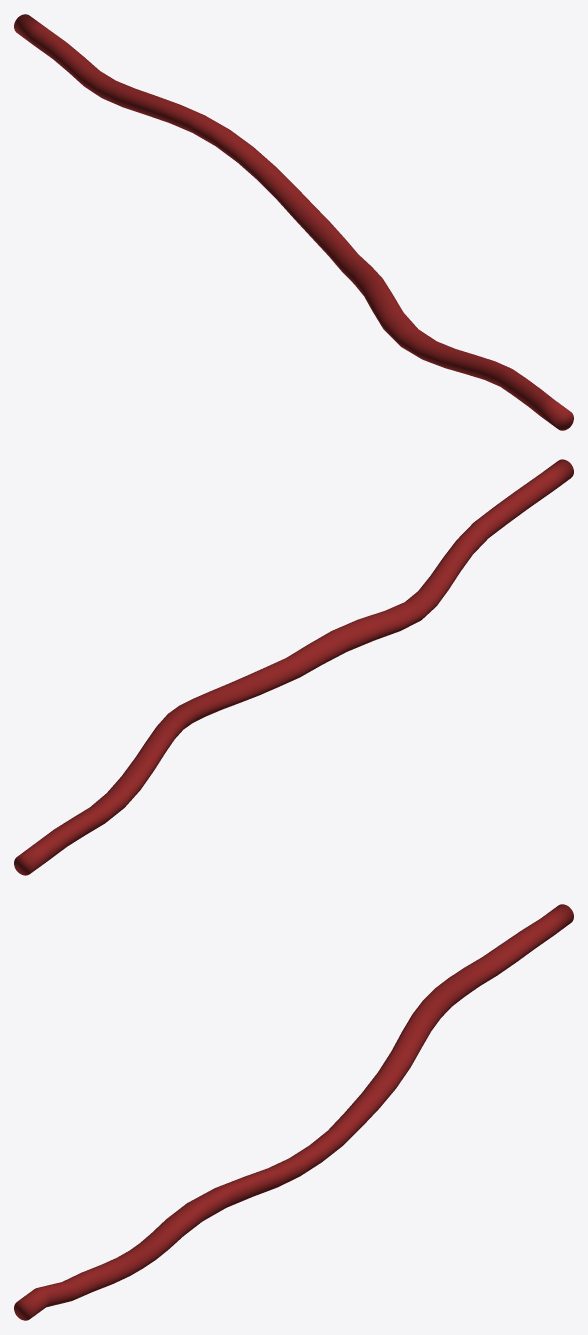
Rendered from Fiber1.fbx.
3 views of the same model, one above another, from view 1: azimuth 30°, elevation 25°; view 2: azimuth 150°, elevation 25°; view 3: azimuth 330°, elevation 25° (orthographic).
Visible parts, largest first — view 1: NerveFiber1; view 2: NerveFiber1; view 3: NerveFiber1.
Part boxes in pixels (x1,y1,x2,y2): NerveFiber1: [14, 14, 573, 430]; NerveFiber1: [14, 459, 573, 875]; NerveFiber1: [14, 904, 573, 1320].
Size of the model in its own units: 1286 by 1261 by 20000.
